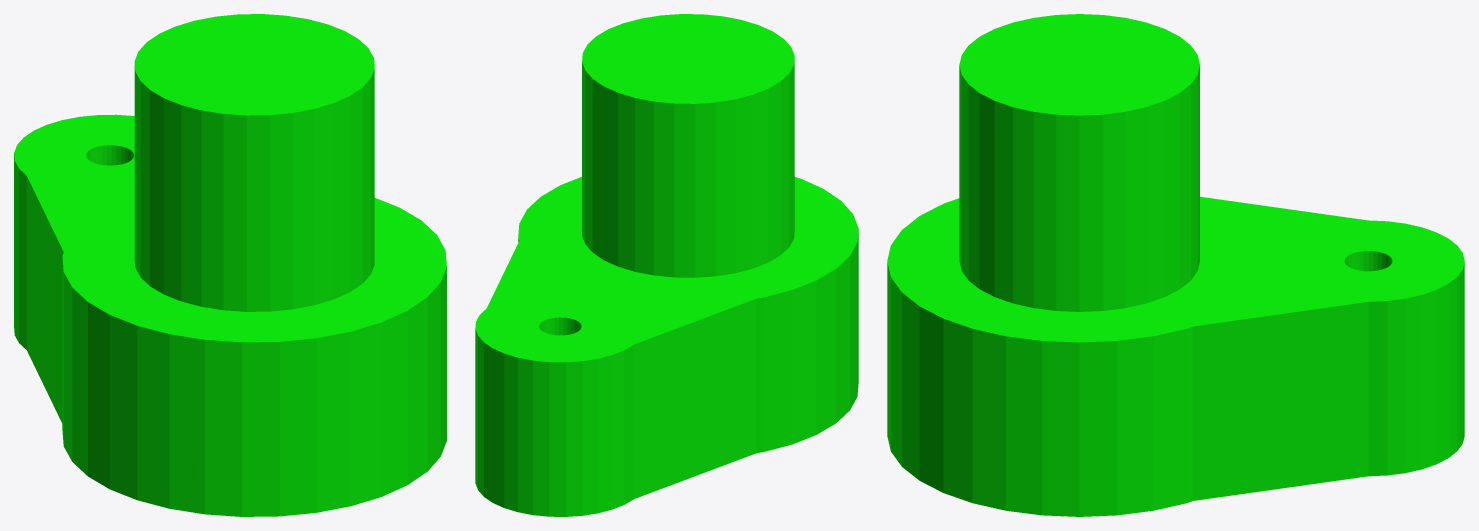
Rendered from pin.glb.
The picture shows the model from 3 angles, left to right: view 1: azimuth 30°, elevation 25°; view 2: azimuth 150°, elevation 25°; view 3: azimuth 270°, elevation 25°; orthographic projection. The views are drawn at different scales.
Visible parts, largest first — view 1: pin; view 2: pin; view 3: pin.
Part boxes in pixels (x1=…): pin: x1=14, y1=14, x2=446, y2=516; pin: x1=475, y1=14, x2=858, y2=516; pin: x1=887, y1=14, x2=1464, y2=516.
Bounding box in the file's own units: 0.08 × 0.085 × 0.12.
